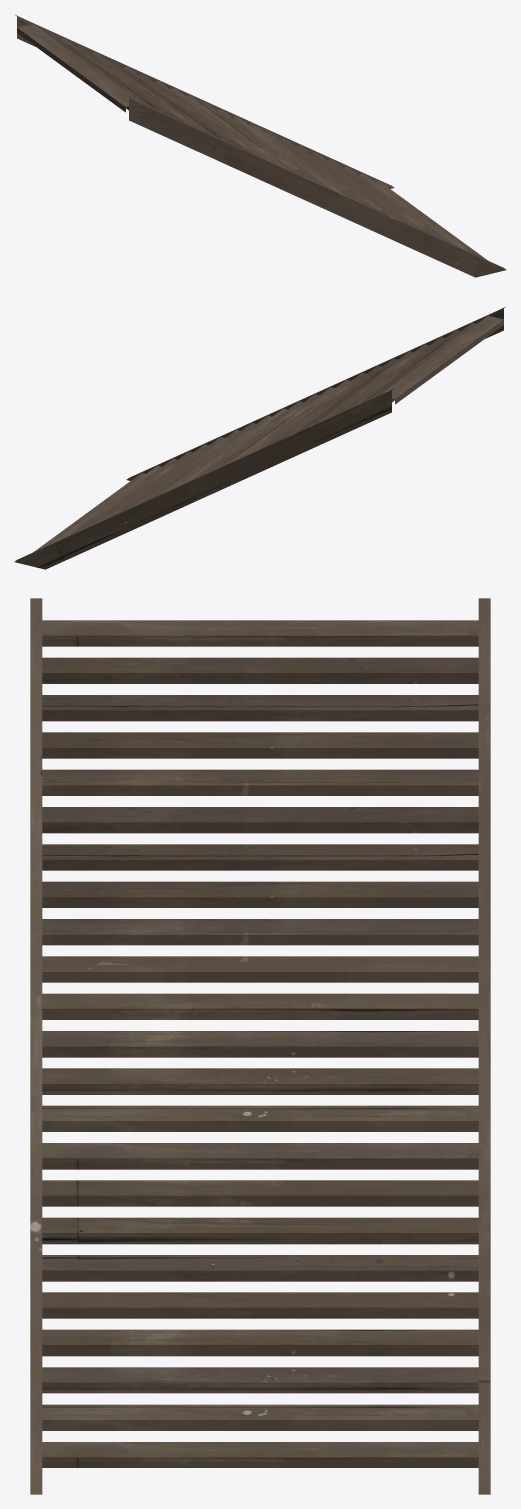
3 renders of one model, top to bottom at view 1: azimuth 30°, elevation 25°; view 2: azimuth 150°, elevation 25°; view 3: azimuth 270°, elevation 25°, orthographic. The views are drawn at different scales.
Parts seen in each view (by area): view 1: body0_model0_lod0_mesh0; view 2: body0_model0_lod0_mesh0; view 3: body0_model0_lod0_mesh0.
Part boxes in pixels (bbox=[...]): body0_model0_lod0_mesh0: bbox=[15, 15, 506, 277]; body0_model0_lod0_mesh0: bbox=[14, 307, 505, 569]; body0_model0_lod0_mesh0: bbox=[30, 598, 490, 1494].
Bounding box in the file's own units: 288 × 192 × 152.
Materials: 1 (1 with a texture image).
